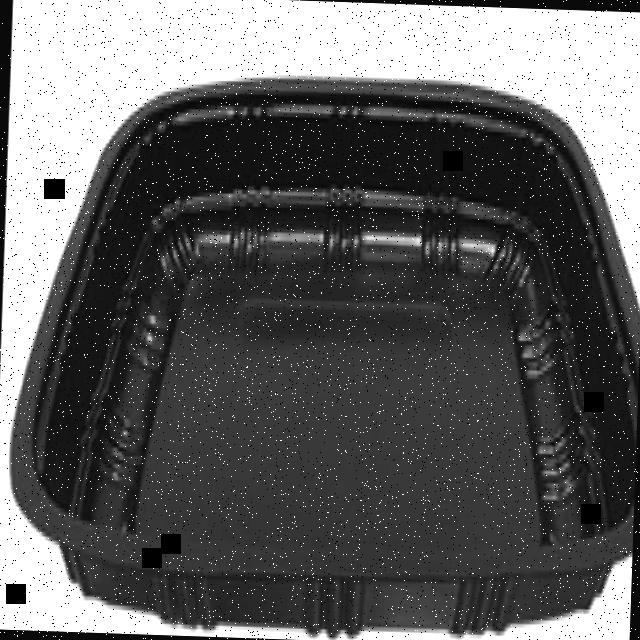plastic_box: (0, 63, 640, 640)
